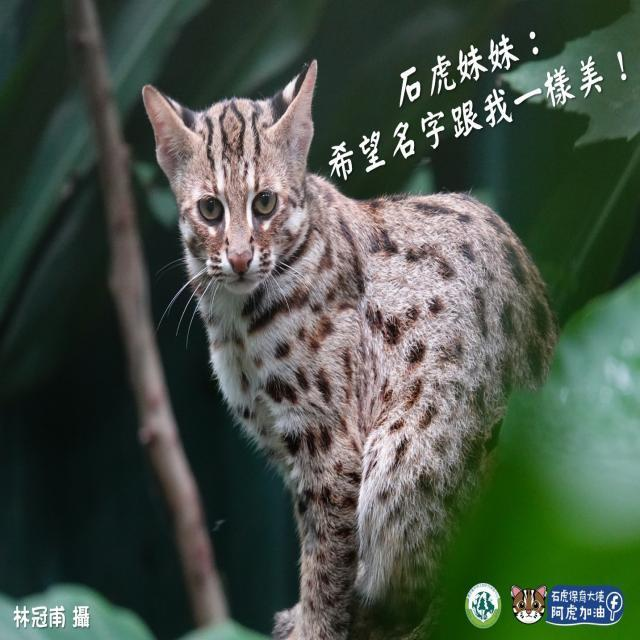leopard: (186, 66, 606, 594)
